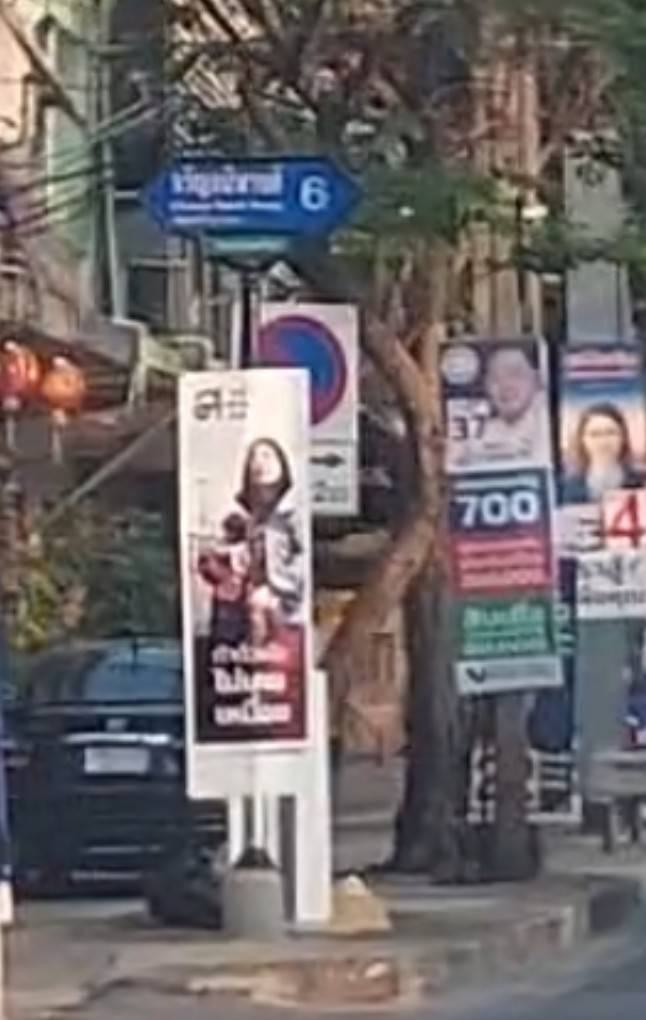Banner: (177, 372, 311, 795), (438, 341, 563, 696), (555, 348, 642, 622)
